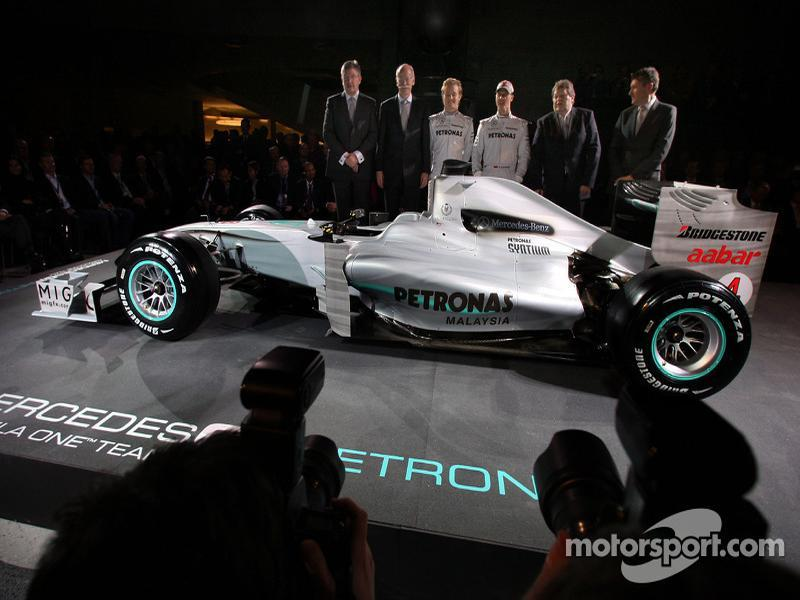f1: (101, 184, 794, 408)
